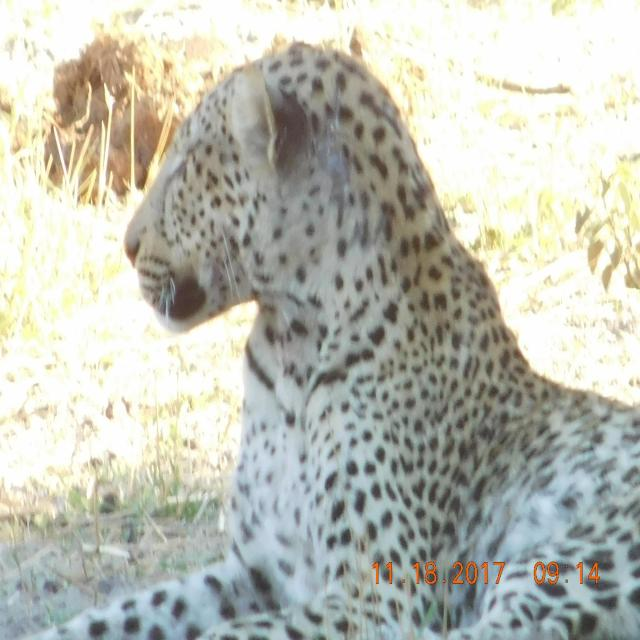Leopard: (20, 36, 640, 640)
